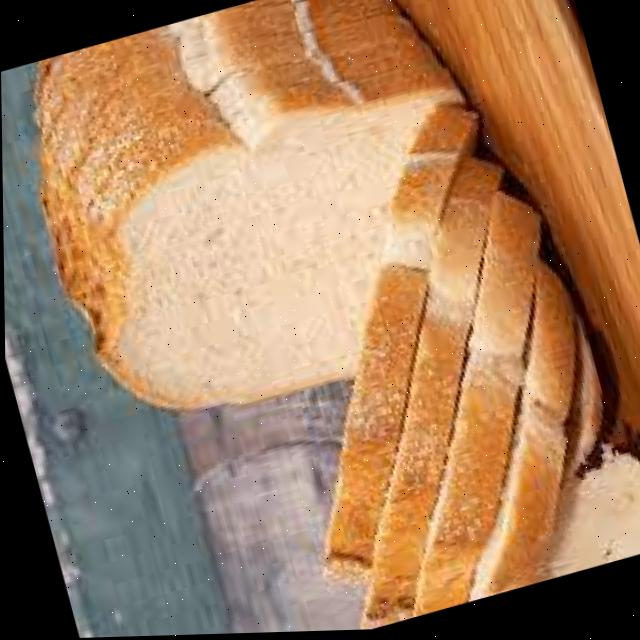Bread: (40, 0, 474, 410), (324, 106, 475, 570), (440, 198, 599, 576), (414, 195, 543, 619), (364, 203, 484, 618), (472, 273, 573, 602), (539, 447, 640, 584)
